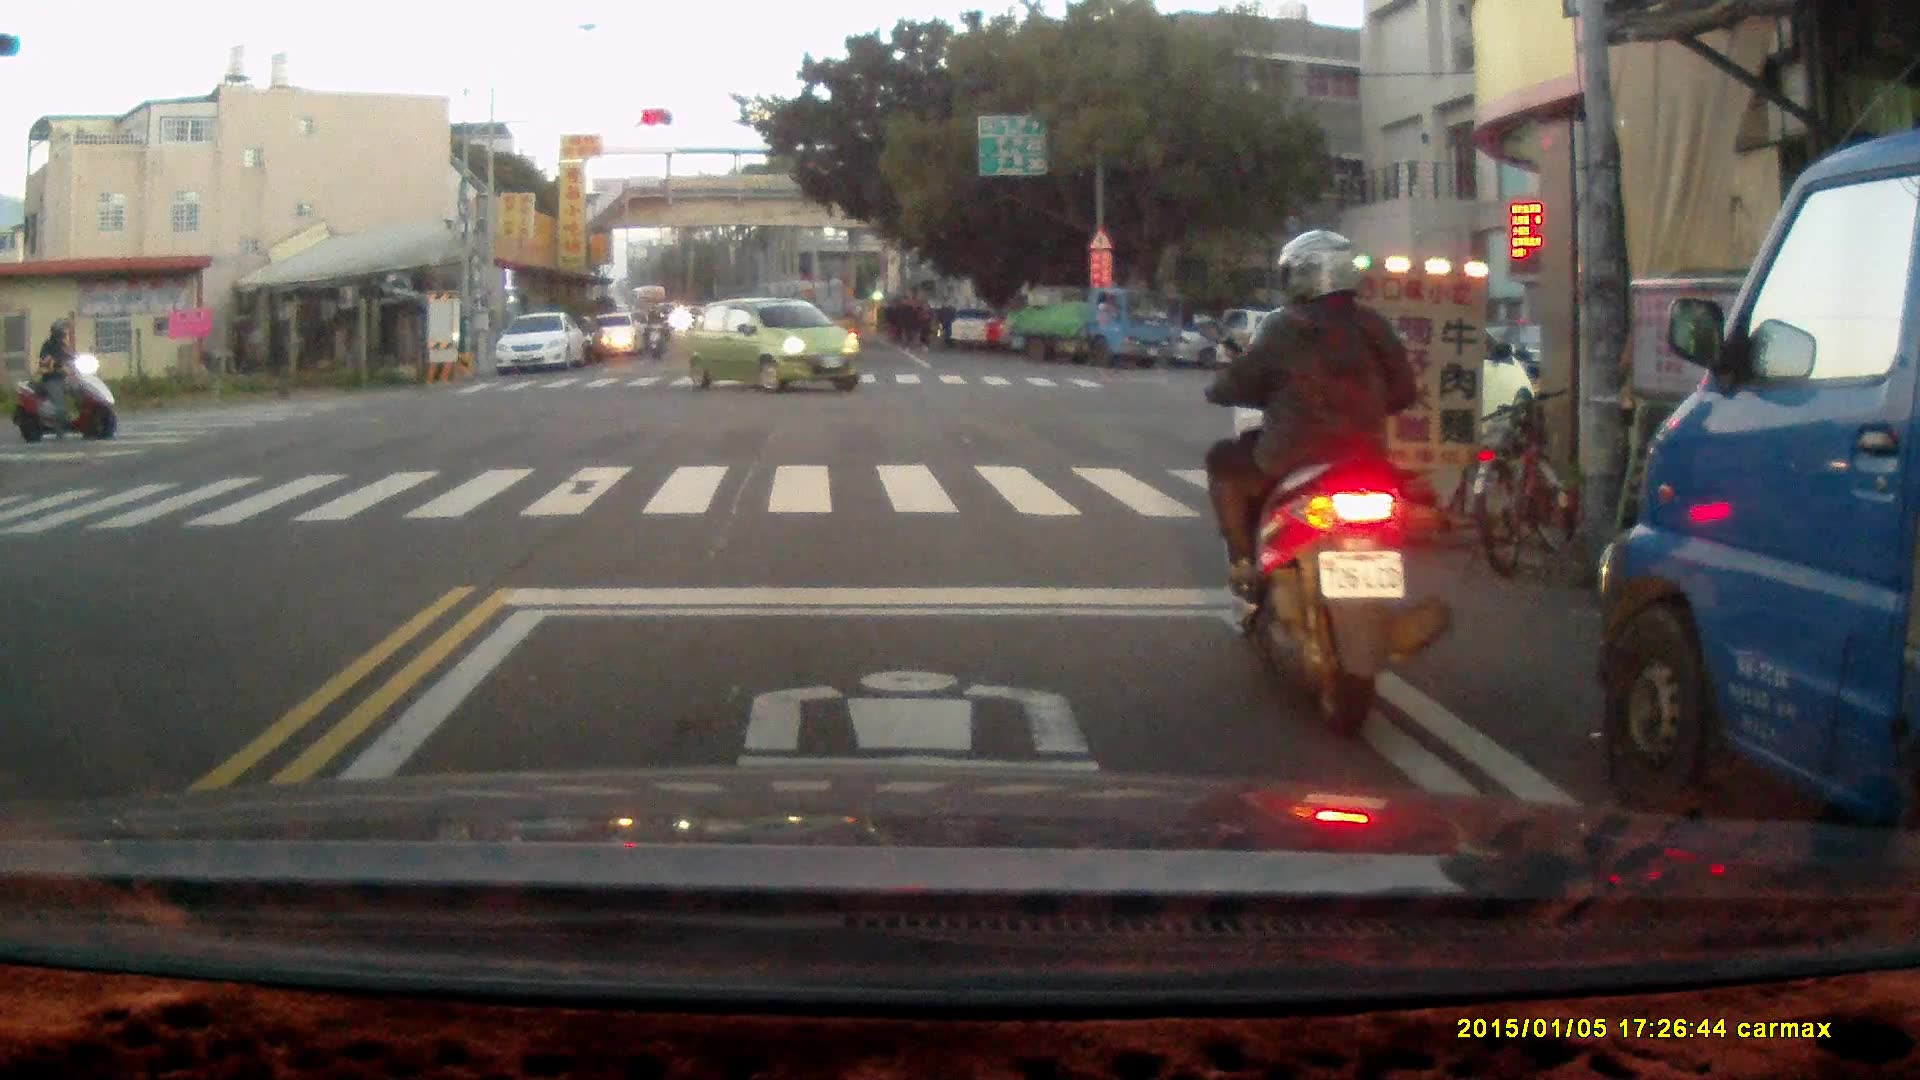rider: (1193, 226, 1458, 739), (10, 317, 119, 440), (643, 307, 669, 361)
vehicle: (1600, 132, 1920, 921), (1219, 294, 1528, 463), (687, 294, 857, 398), (1002, 284, 1177, 367), (495, 313, 587, 377), (592, 311, 642, 360)
